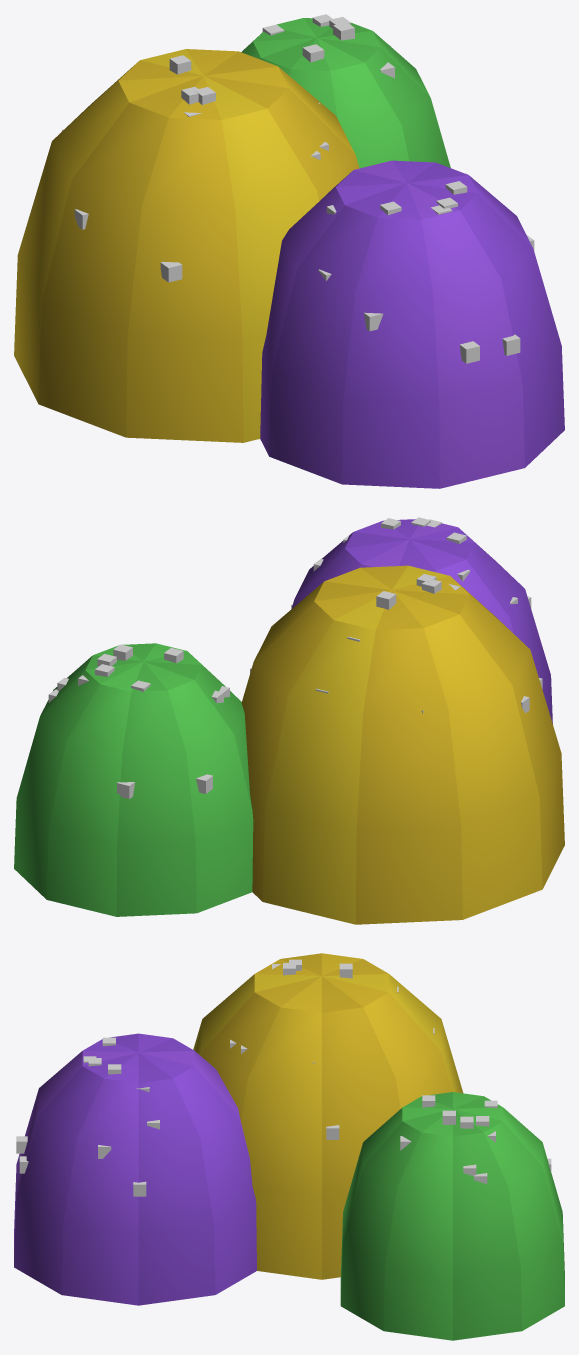
File: gumdrop_b.glb
3 views of the same model, one above another, from view 1: azimuth 30°, elevation 25°; view 2: azimuth 150°, elevation 25°; view 3: azimuth 270°, elevation 25° (orthographic). The views are drawn at different scales.
Visible parts, largest first — view 1: gumdrop_b; view 2: gumdrop_b; view 3: gumdrop_b.
Boxes of the visible parts, box(x1,y1,x2,y2) form: gumdrop_b: box(14, 14, 564, 488); gumdrop_b: box(14, 517, 564, 924); gumdrop_b: box(14, 953, 564, 1340).
Size of the model in its own units: 1.05 by 0.6152 by 1.26.
